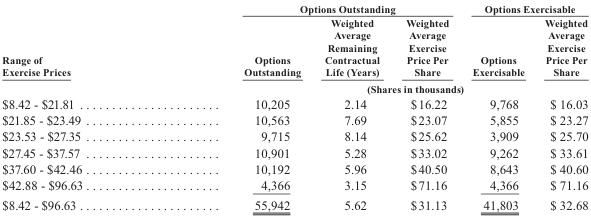table: (1, 0, 587, 213)
table column: (1, 0, 162, 213), (162, 0, 312, 213), (312, 0, 392, 213), (459, 0, 533, 213), (392, 0, 459, 213), (533, 0, 587, 213)
table column header: (1, 0, 587, 94)
table row: (1, 15, 587, 79), (1, 194, 587, 213), (1, 176, 587, 194), (1, 94, 587, 111), (1, 127, 587, 144), (1, 111, 587, 127), (1, 144, 587, 160), (1, 160, 587, 176), (1, 0, 587, 15), (1, 79, 587, 94)
table spanning cell: (1, 0, 162, 94), (162, 79, 587, 94), (162, 0, 459, 15), (459, 0, 587, 15)
